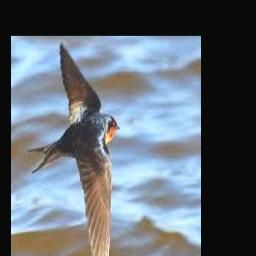Swallow: (28, 43, 120, 256)
